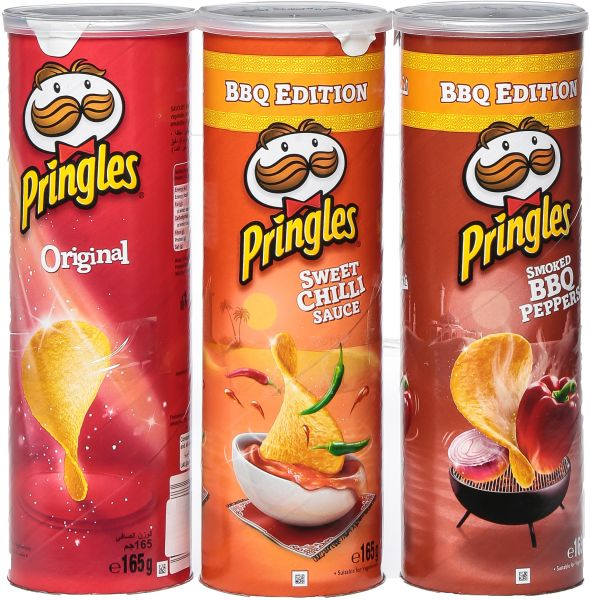pringle: (0, 1, 194, 600)
